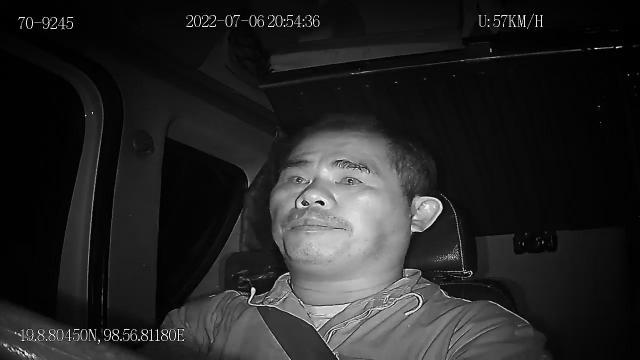SafeDriving: (328, 165, 369, 191), (279, 166, 313, 190)
Seatbelt: (255, 302, 342, 360)
